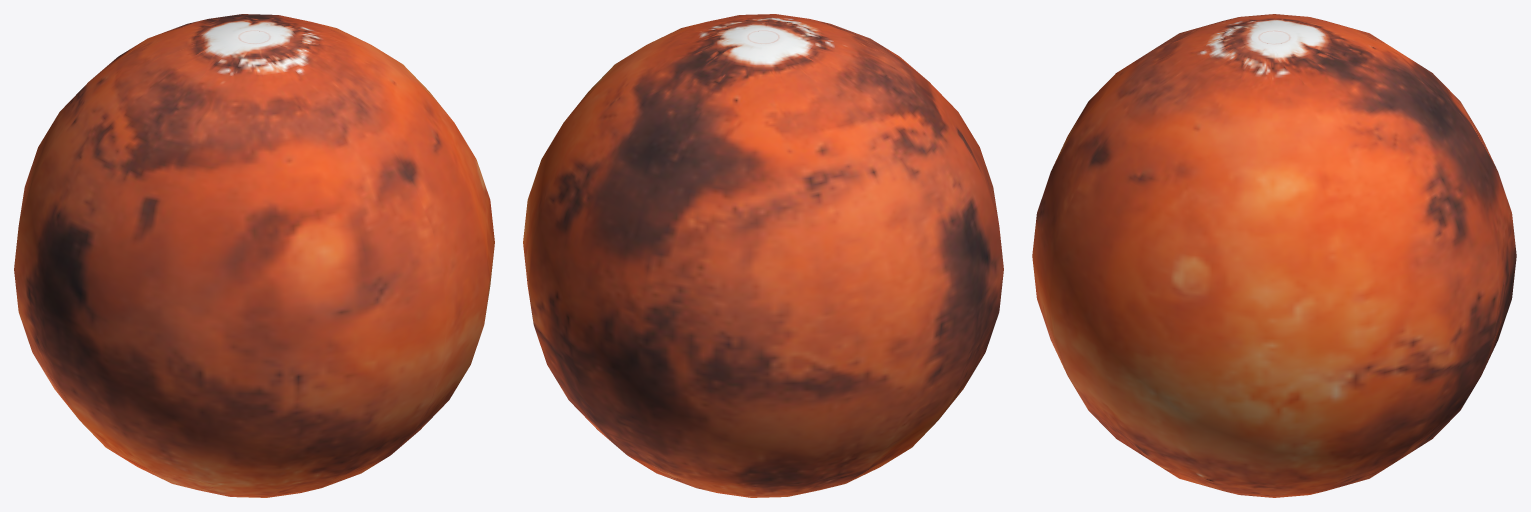
Rendered from Mars.fbx.
3 renders of one model, left to right at view 1: azimuth 30°, elevation 25°; view 2: azimuth 150°, elevation 25°; view 3: azimuth 270°, elevation 25°, orthographic.
Parts seen in each view (by area): view 1: Mars; view 2: Mars; view 3: Mars.
Boxes of the visible parts, <box> form: Mars: <box>14,14,494,497</box>; Mars: <box>523,14,1003,497</box>; Mars: <box>1032,14,1516,497</box>.
Bounding box in the file's own units: 7.26 × 7.22 × 7.26.
